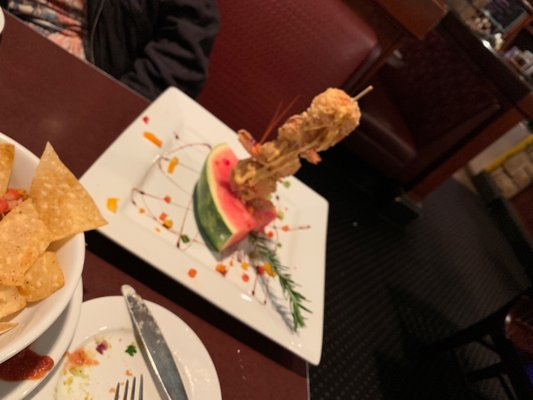sandwich: (121, 284, 192, 400)
soup: (0, 139, 108, 333)
